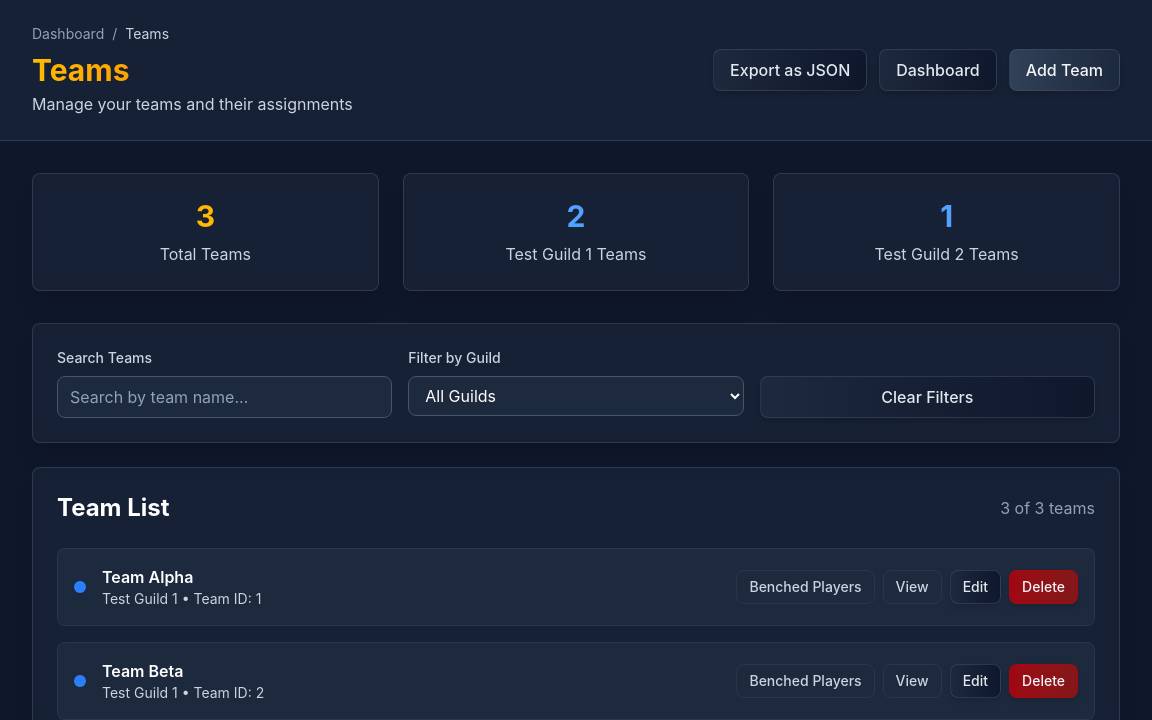
it: Teams › Add Team › handles team creation error
Click the button "Add Team": [1064, 70] box [1009, 49, 1120, 91]
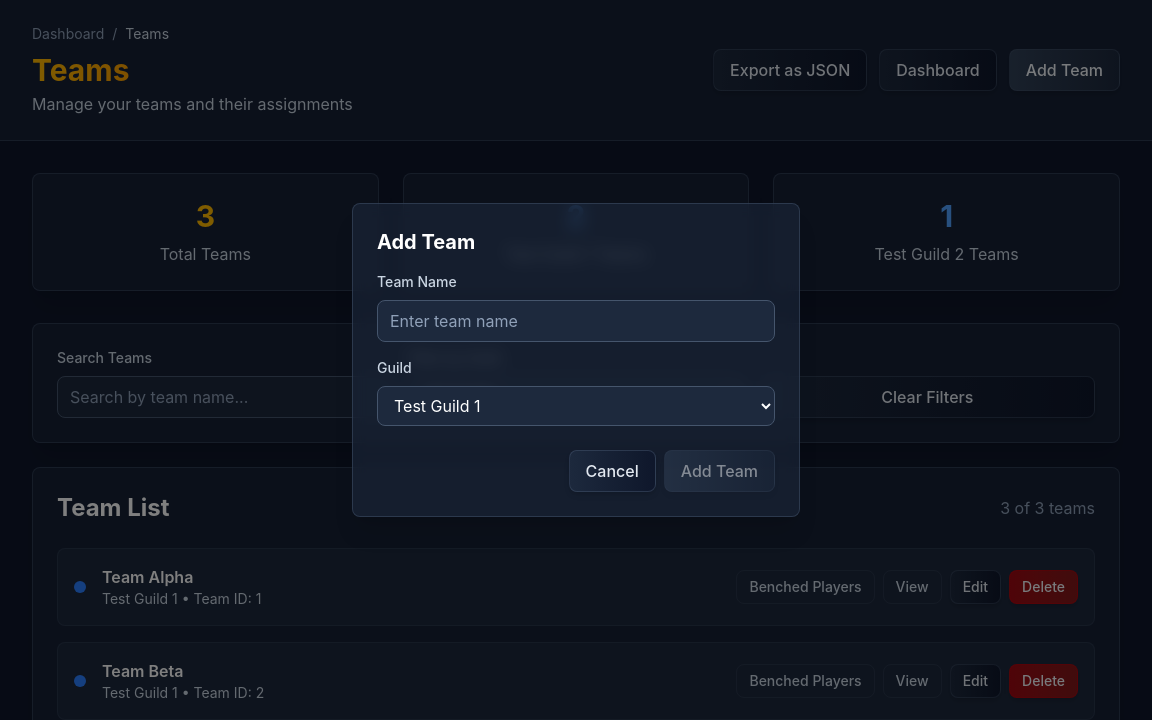
Expected: the element with test id "team-form-modal" is shown
// Fill form
In the field labelled "Team Name": [576, 321] box [377, 300, 775, 342], type "New Team"
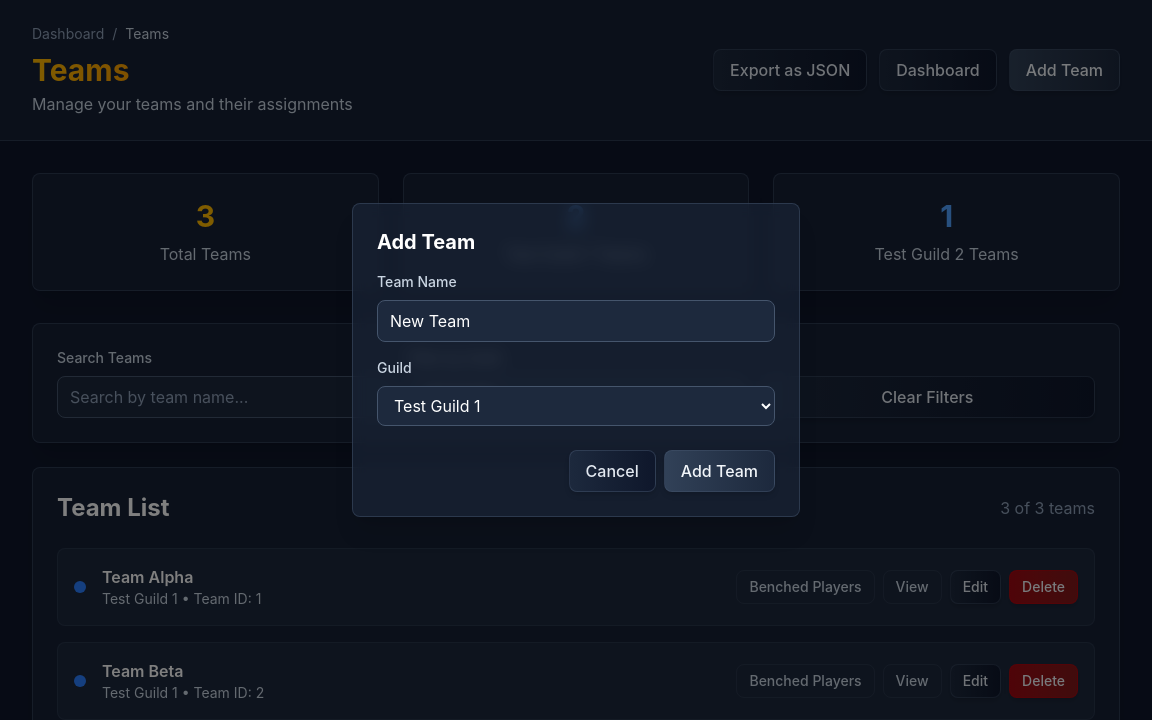
Select "Test Guild 1" in the dropdown labelled "Guild": [576, 406] box [377, 386, 775, 426]
// Submit form
Click the button with test id "team-form-submit": [719, 471] box [664, 450, 775, 492]
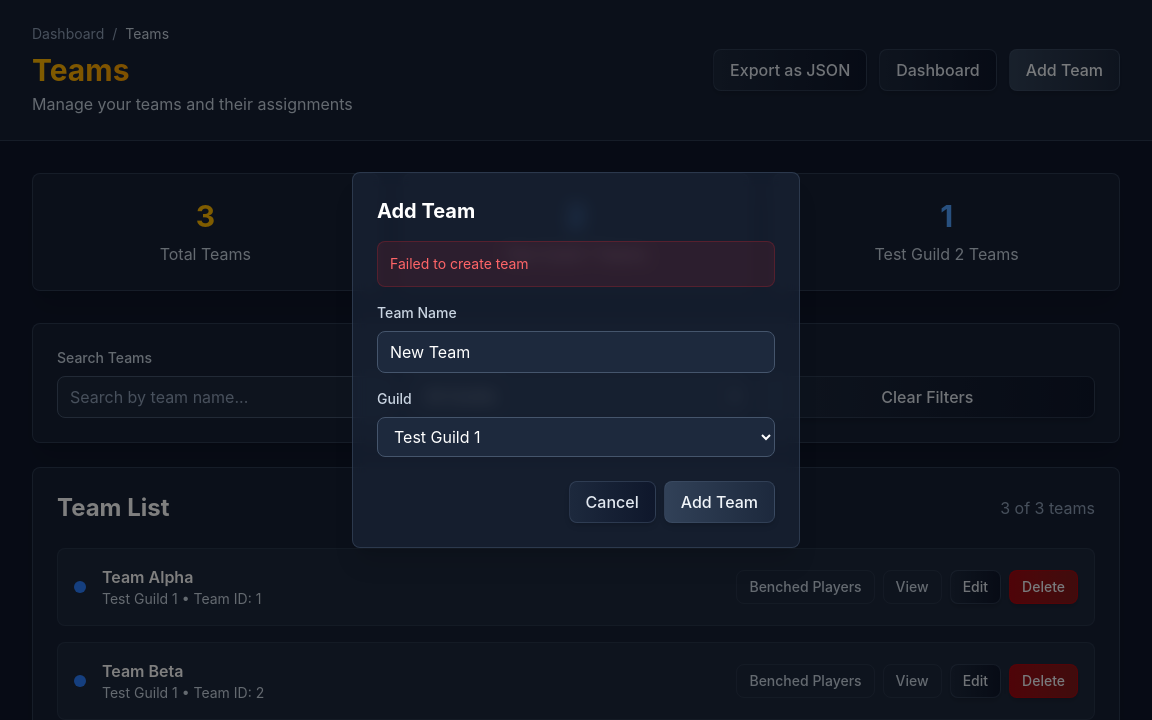
Expected: the text "Failed to create team" is shown, [390, 255, 529, 272]
